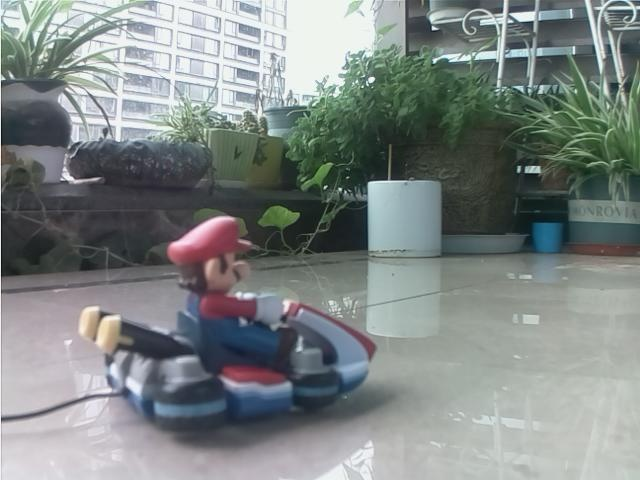mario: (68, 210, 386, 447)
